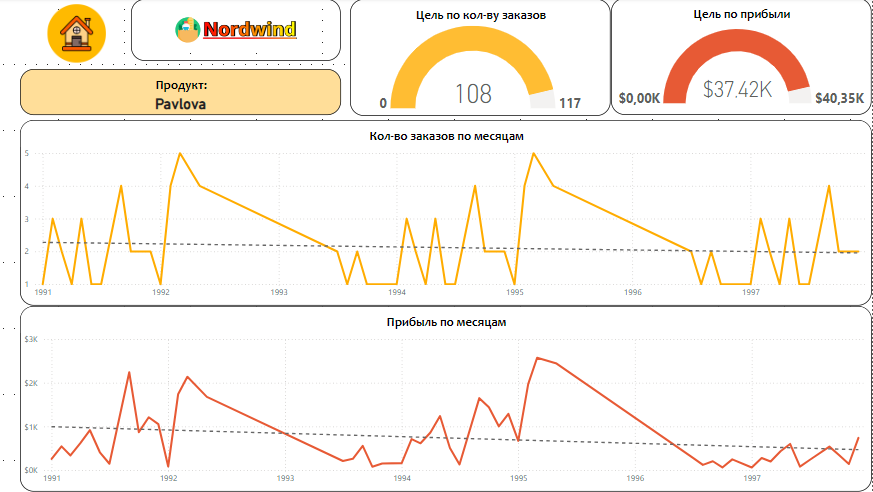

What the dashboard file says about the page in this screenshot:
{"tool":"powerbi","page":{"name":"Продукты","canvas":[1280,720],"ordinal":1},"visuals":[{"type":"lineChart","title":"Прибыль по месяцам","fields":{"Category":["Calendar.Start_Month"],"Y":["orders_details_all.Total_Profit"]},"box":[40,448.6,1238.6,270],"z":0},{"type":"gauge","title":"Цель по кол-ву заказов","fields":{"Y":["orders_details_all.Order_Cases_Dist"],"MaxValue":["orders_details_all.Order_Target"]},"box":[521.4,1.4,379,170],"z":1000},{"type":"card","title":"Продукт:","fields":{"Values":["Min(public products.product_name)"]},"box":[40,102.9,467.1,67.1],"z":2000},{"type":"gauge","title":"Цель по прибыли","fields":{"Y":["orders_details_all.Total_Profit"],"MaxValue":["orders_details_all.Profit_Target"]},"box":[900,0,378.6,170],"z":3000},{"type":"image","box":[201.7,1.7,305,90],"z":4000},{"type":"lineChart","title":"Кол-во заказов по месяцам","fields":{"Category":["Calendar.Start_Month"],"Y":["orders_details_all.Order_Cases_Dist"]},"box":[40,177.1,1238.6,270],"z":5000},{"type":"image","box":[75.6,0,94.5,103.3],"z":6000}]}

Visuals, with their boxes in screenshot pixels (x1, y1, x2, y2), scaled from the page's 1280x720 canvas onto the 873x492 screenshot:
"Прибыль по месяцам" lineChart: l=27, t=307, r=872, b=491
"Цель по кол-ву заказов" gauge: l=356, t=1, r=614, b=117
"Продукт:" card: l=27, t=70, r=346, b=116
"Цель по прибыли" gauge: l=614, t=0, r=872, b=116
image: l=138, t=1, r=346, b=63
"Кол-во заказов по месяцам" lineChart: l=27, t=121, r=872, b=306
image: l=52, t=0, r=116, b=71
